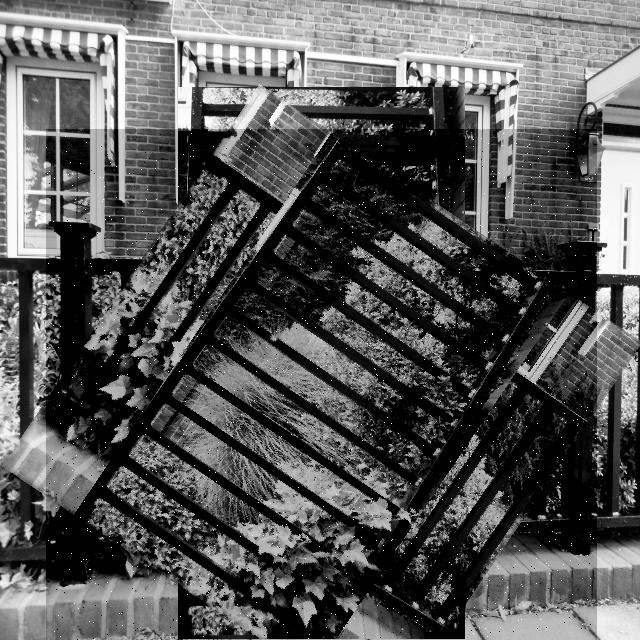fences: (46, 129, 597, 640)
